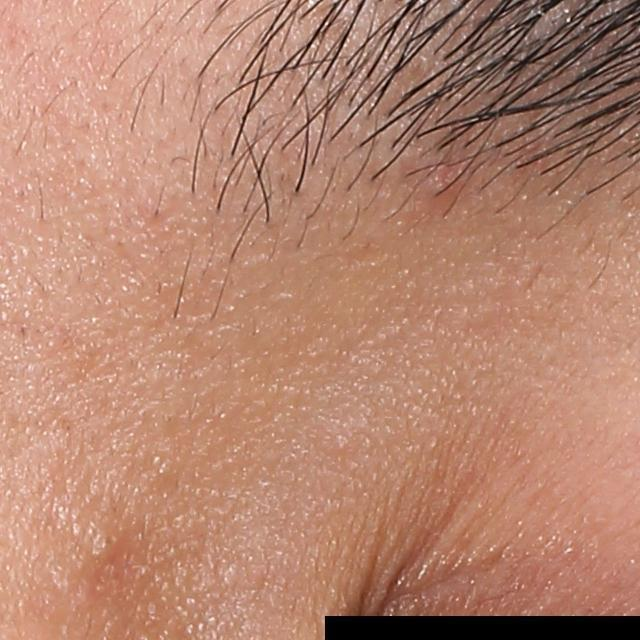comedo: (86, 527, 122, 565)
papule: (422, 155, 470, 213)
